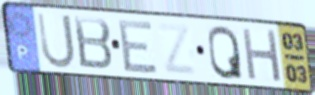B: (71, 14, 115, 72)
E: (117, 19, 161, 75)
H: (240, 26, 284, 84)
Q: (206, 24, 245, 82)
U: (34, 10, 77, 71)
Z: (155, 21, 199, 78)
